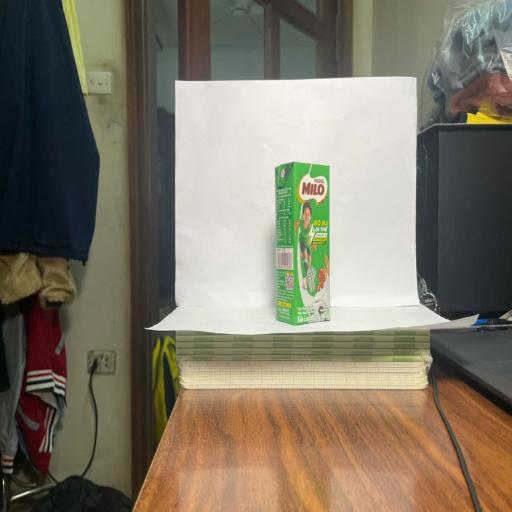milo: (274, 161, 330, 323)
